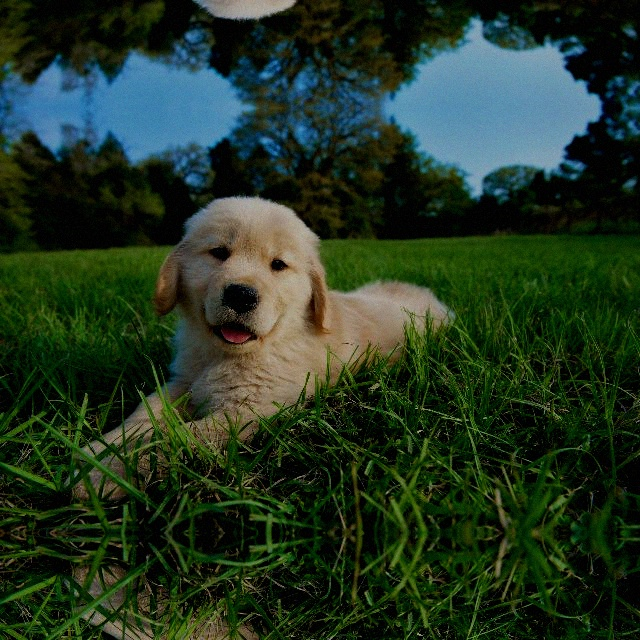dog: (54, 179, 466, 497), (54, 568, 466, 640), (54, 0, 466, 34)
